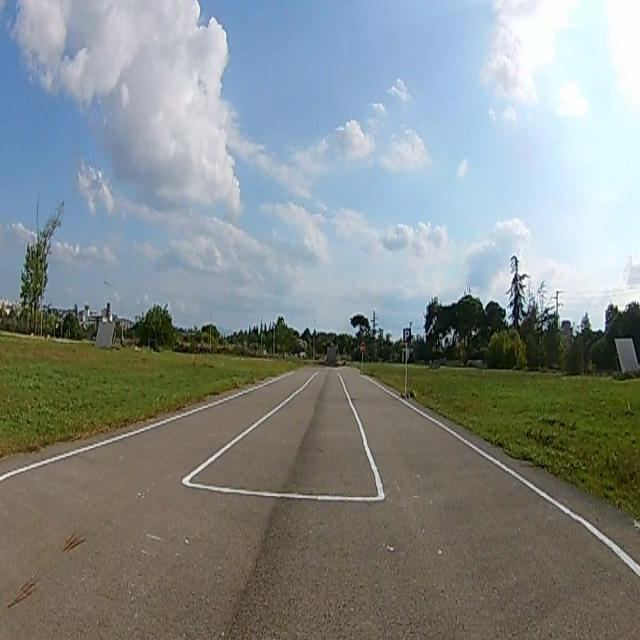park: (404, 329, 411, 342)
